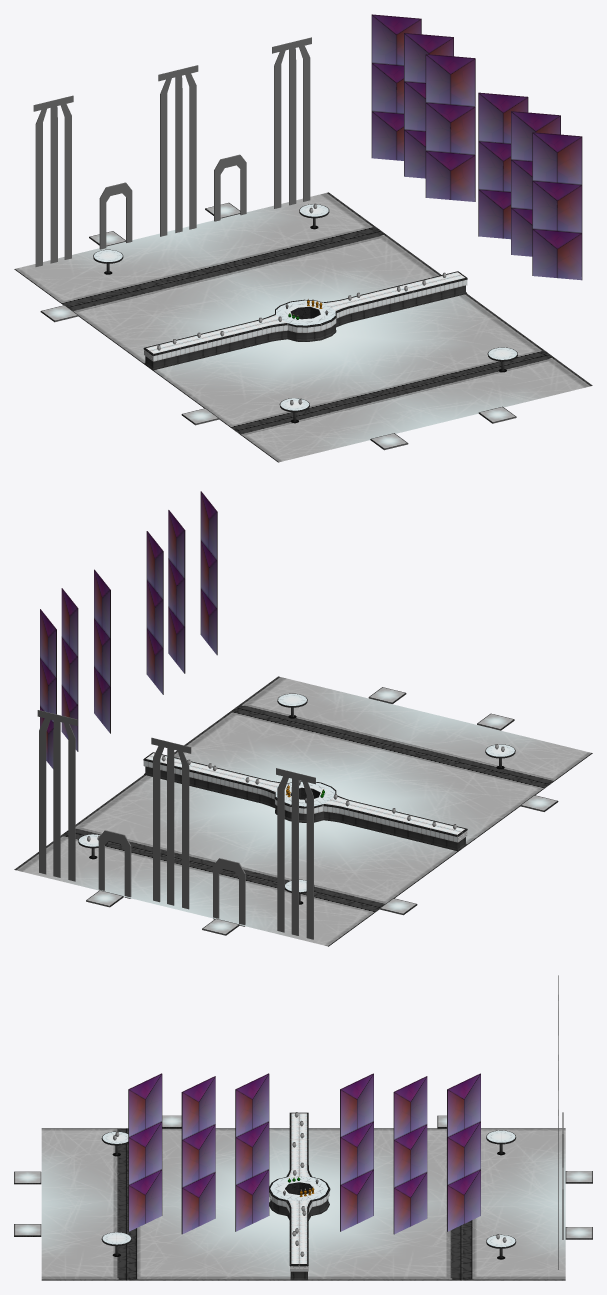
File: Gamelevelv2.fbx
3 views of the same model, one above another, from view 1: azimuth 30°, elevation 25°; view 2: azimuth 150°, elevation 25°; view 3: azimuth 270°, elevation 25° (orthographic).
Parts seen in each view (by area): view 1: pPlane4, group7_pPlane4, pPlane50, pPlane53, pPlane51, pPlane54, pPlane24, pPlane40, pPlane23, pPlane37, pPlane52, pPlane41 (+1 smaller); view 2: pPlane4, group7_pPlane4, pPlane23, pPlane40, pPlane24, pPlane50, pPlane37, pPlane51, pPlane53, pPlane52, pPlane54, pPlane32 (+1 smaller); view 3: pPlane4, pPlane50, pPlane52, pPlane37, pPlane51, pPlane54, pPlane53, group7_pPlane4, pCylinder9, pCylinder10.
Part boxes in pixels (x1,y1,x2,y2): pPlane4: [14, 192, 592, 462]; group7_pPlane4: [143, 271, 467, 370]; pPlane50: [532, 132, 582, 280]; pPlane53: [425, 54, 475, 201]; pPlane51: [478, 92, 528, 239]; pPlane54: [371, 14, 421, 160]; pPlane24: [33, 95, 73, 266]; pPlane40: [158, 65, 198, 236]; pPlane23: [272, 37, 311, 208]; pPlane37: [511, 111, 560, 256]; pPlane52: [404, 33, 453, 178]; pPlane41: [99, 182, 132, 249]; pPlane4: [14, 676, 592, 946]; group7_pPlane4: [143, 752, 467, 851]; pPlane23: [37, 710, 77, 881]; pPlane40: [151, 737, 191, 909]; pPlane24: [276, 768, 315, 939]; pPlane50: [200, 491, 217, 655]; pPlane37: [168, 510, 185, 673]; pPlane51: [146, 531, 163, 694]; pPlane53: [94, 569, 110, 733]; pPlane52: [61, 588, 78, 751]; pPlane54: [40, 609, 56, 768]; pPlane32: [98, 830, 131, 898]; pPlane4: [41, 1128, 565, 1280]; pPlane50: [128, 1073, 162, 1231]; pPlane52: [393, 1076, 427, 1234]; pPlane37: [181, 1076, 215, 1234]; pPlane51: [235, 1073, 269, 1231]; pPlane54: [447, 1073, 480, 1231]; pPlane53: [340, 1073, 373, 1231]; group7_pPlane4: [269, 1112, 330, 1280]; pCylinder9: [486, 1130, 516, 1155]; pCylinder10: [101, 1232, 131, 1256].
Bounding box in the file's own units: 62.89 × 33.55 × 84.23.
